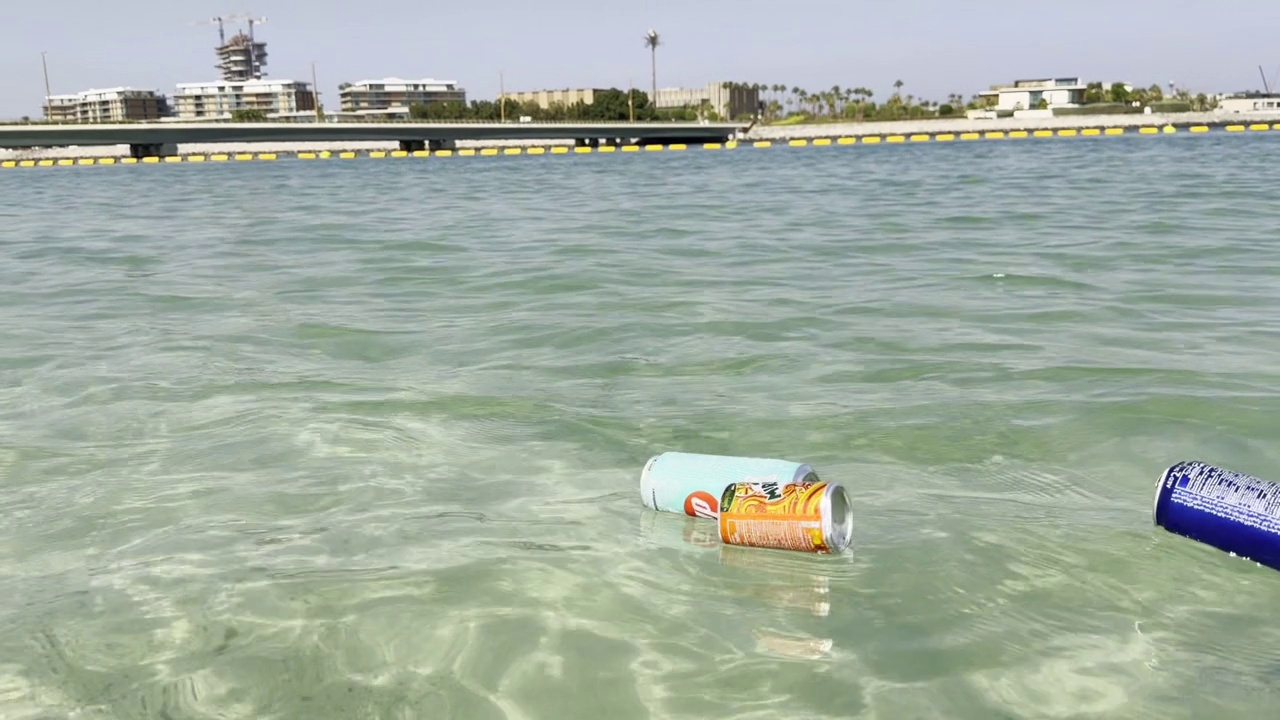debris: (632, 437, 831, 534), (705, 474, 859, 560), (1157, 452, 1228, 559)
